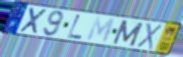9: (41, 10, 65, 38)
L: (66, 14, 84, 41)
M: (111, 19, 145, 48), (85, 15, 117, 44)
X: (18, 6, 48, 36), (135, 22, 163, 51)
